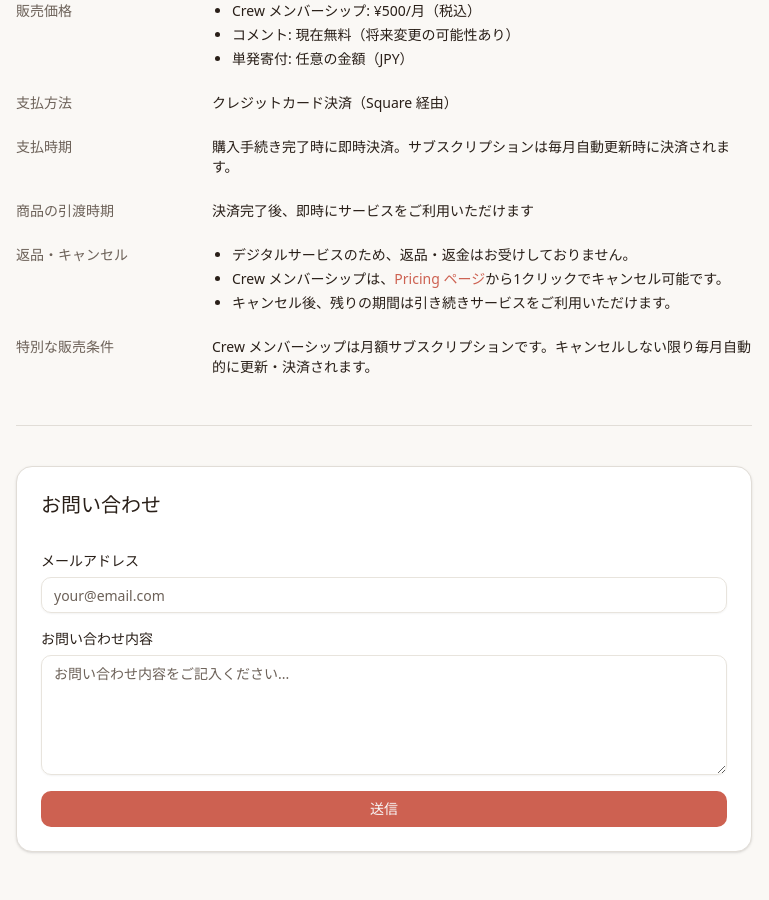
Test case: Legal › shows error on failed submission
(page scrolled)
Type "test@example.com" into the field labelled "メールアドレス" at {"x": 384, "y": 595}, box 41,577 -> 727,613
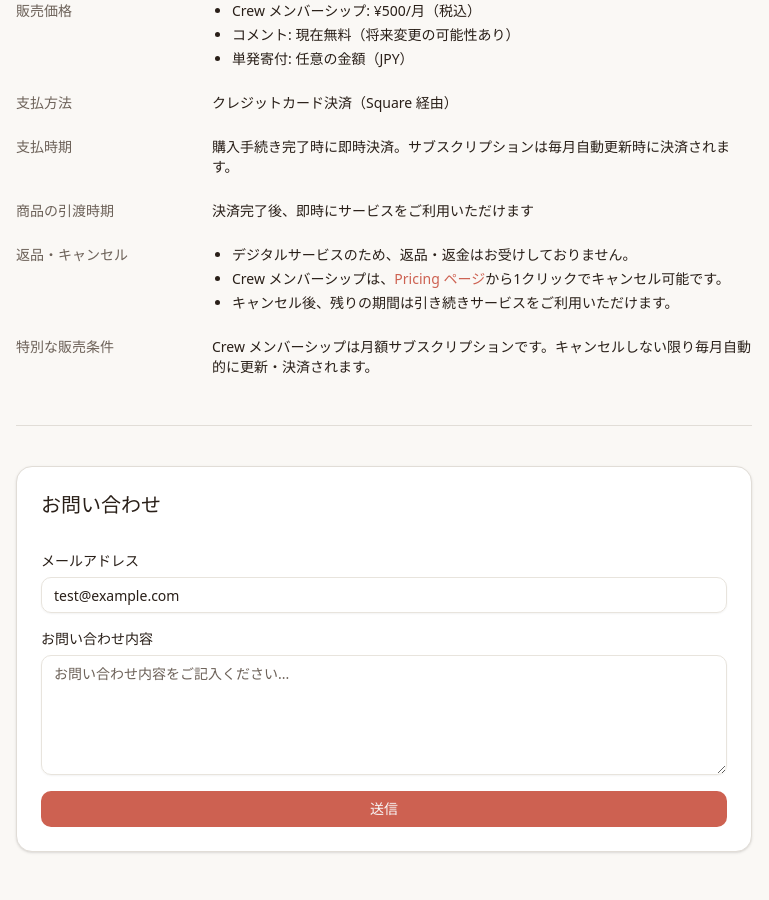
Type "Hello" into the text box labelled "お問い合わせ内容" at {"x": 384, "y": 715}, box 41,655 -> 727,775
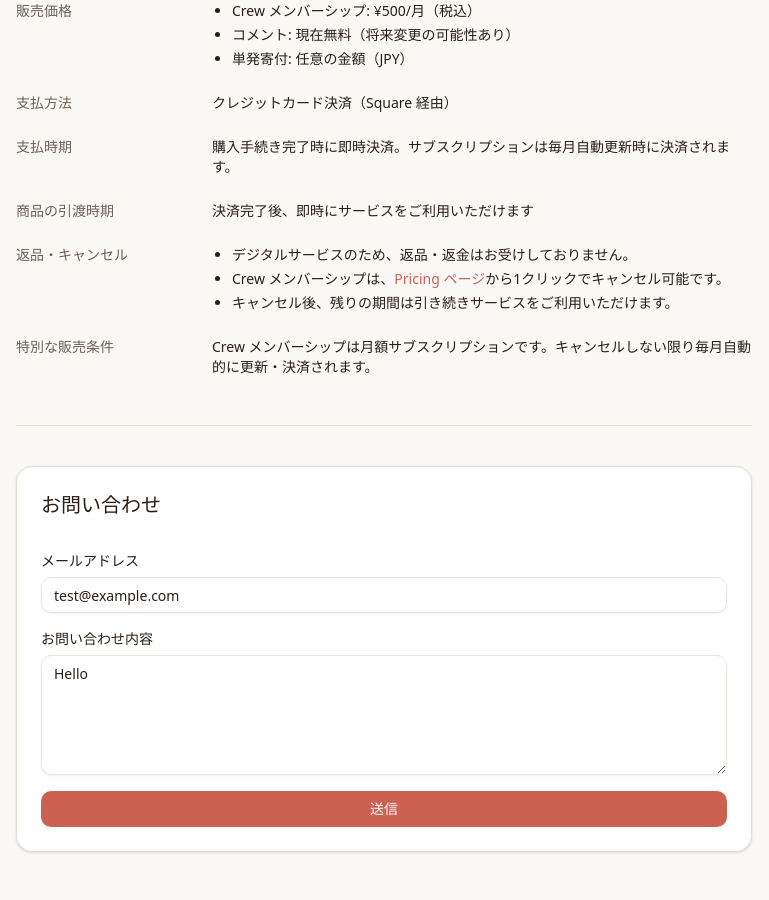
Click the button "送信" at {"x": 384, "y": 809}, box 41,791 -> 727,827
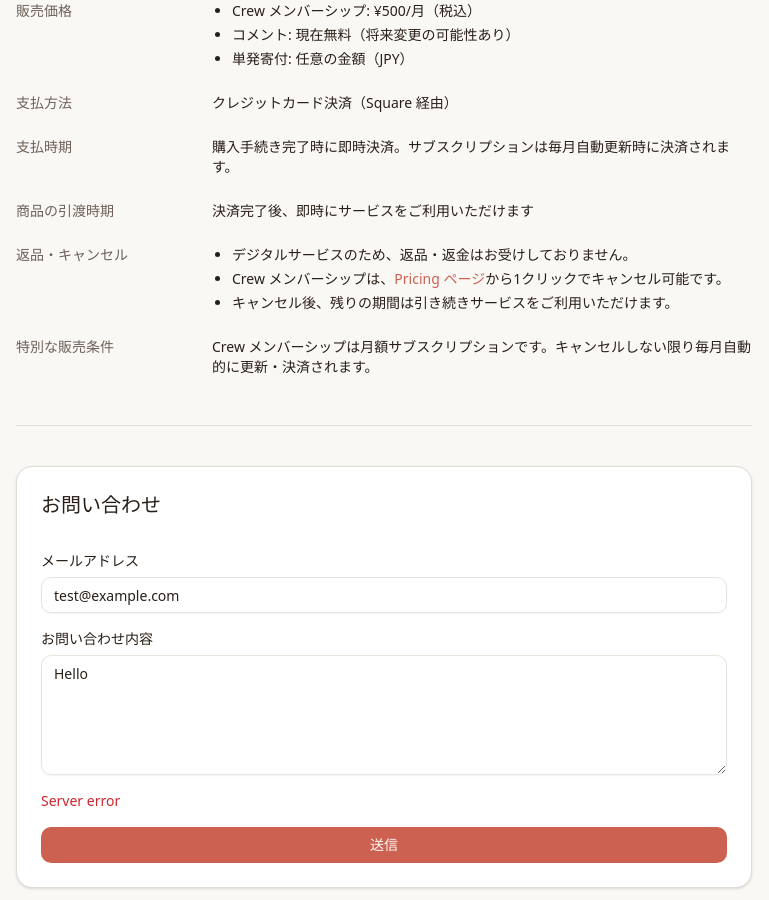
Expected: the text "Server error" is shown, 41,791 -> 120,810
